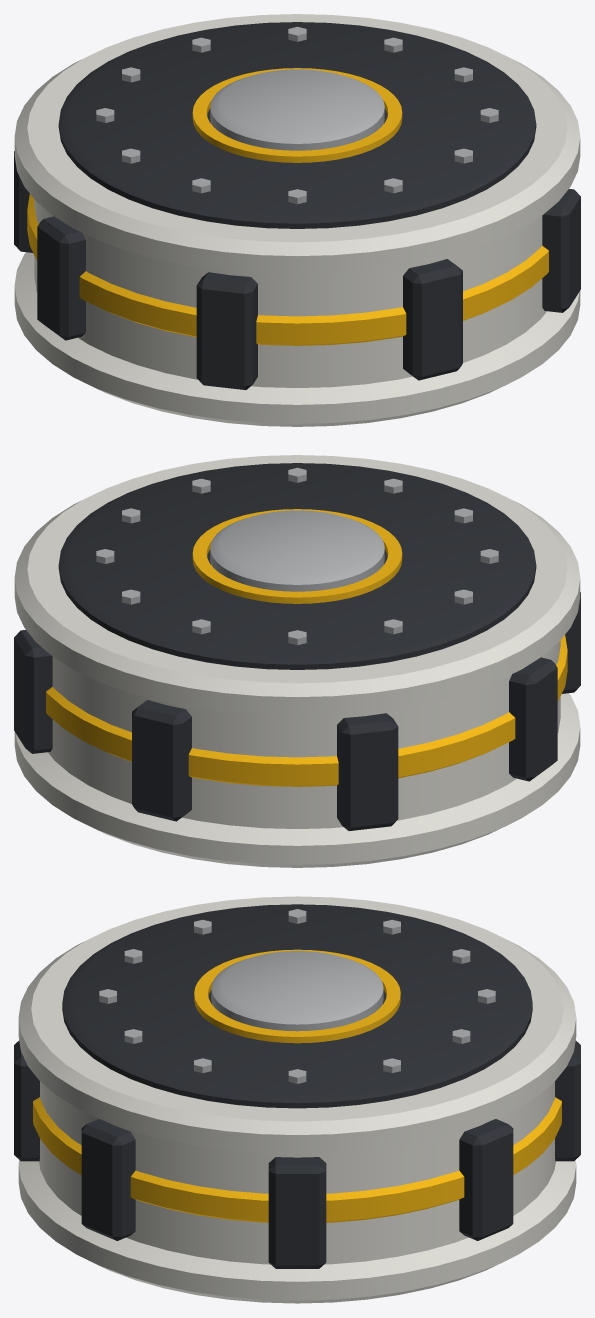
File: attitude_unit.glb
3 views of the same model, one above another, from view 1: azimuth 30°, elevation 25°; view 2: azimuth 150°, elevation 25°; view 3: azimuth 270°, elevation 25° (orthographic).
Visible parts, largest first — view 1: Drum, Lid, Ribs, Hub, Band, HubRing, Bolts; view 2: Drum, Lid, Ribs, Hub, Band, HubRing, Bolts; view 3: Drum, Lid, Ribs, Band, Hub, HubRing, Bolts.
Part boxes in pixels (box(x1,y1,x2,y2)): Drum: box(14, 14, 580, 426); Lid: box(58, 22, 536, 228); Ribs: box(14, 151, 580, 389); Hub: box(210, 69, 384, 150); Band: box(27, 194, 548, 345); HubRing: box(192, 68, 402, 162); Bolts: box(96, 26, 498, 204); Drum: box(14, 455, 580, 867); Lid: box(58, 463, 536, 669); Ribs: box(14, 592, 580, 830); Hub: box(210, 510, 384, 591); Band: box(46, 635, 567, 786); HubRing: box(192, 509, 402, 603); Bolts: box(96, 467, 498, 645); Drum: box(18, 896, 576, 1303); Lid: box(62, 904, 532, 1108); Ribs: box(14, 1040, 580, 1268); Band: box(33, 1097, 561, 1222); Hub: box(211, 951, 383, 1031); HubRing: box(194, 949, 400, 1043); Bolts: box(99, 909, 495, 1083).
Bounding box in the file's own units: 0.494 × 0.2 × 0.494.
